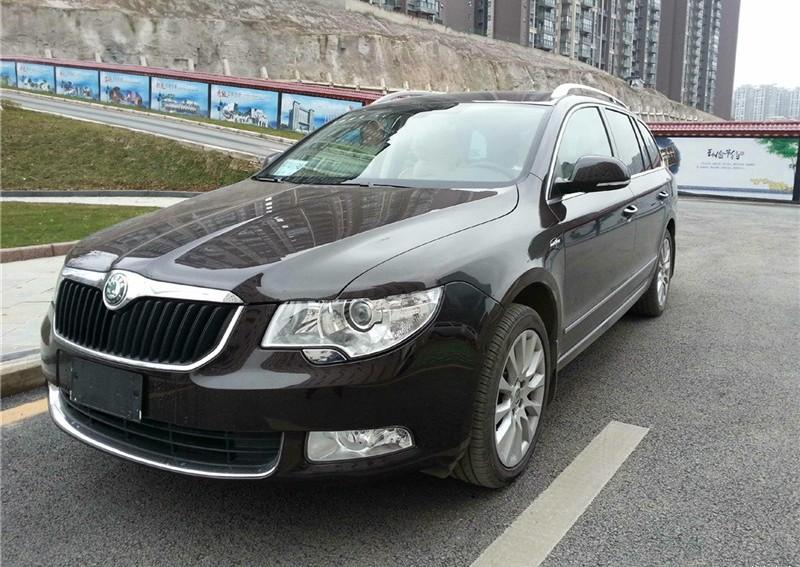Wagon: (37, 80, 678, 489)
